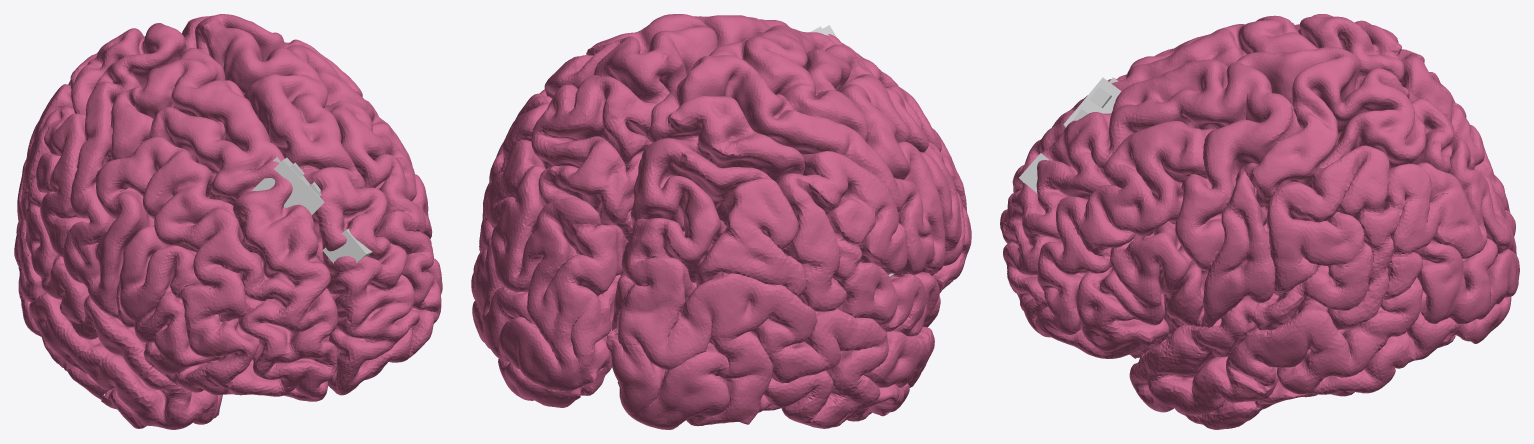
File: non_hra_mapping.glb
3 views of the same model, side by side, from view 1: azimuth 30°, elevation 25°; view 2: azimuth 150°, elevation 25°; view 3: azimuth 270°, elevation 25° (orthographic). The views are drawn at different scales.
Parts seen in each view (by area): view 1: world; view 2: world; view 3: world.
Boxes of the visible parts, x1,y1,x2,y2 form: world: [14, 14, 442, 429]; world: [471, 14, 971, 429]; world: [1000, 14, 1519, 429].
Size of the model in its own units: 0.8014 by 0.7607 by 1.
